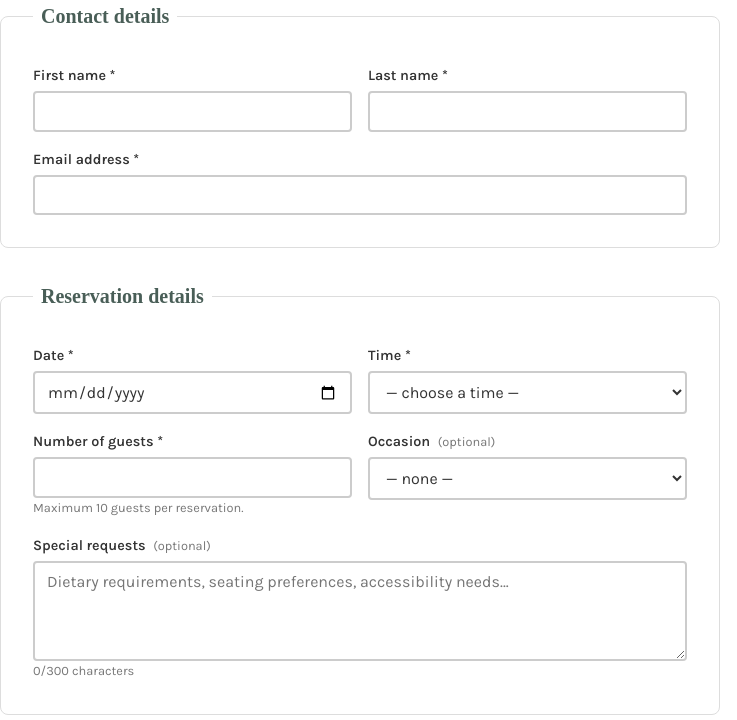
Test case: BookingForm validation › shows an error for an invalid email address
Type "not-an-email" into the field labelled "Email address *" at (360, 195), box [33, 175, 687, 215]
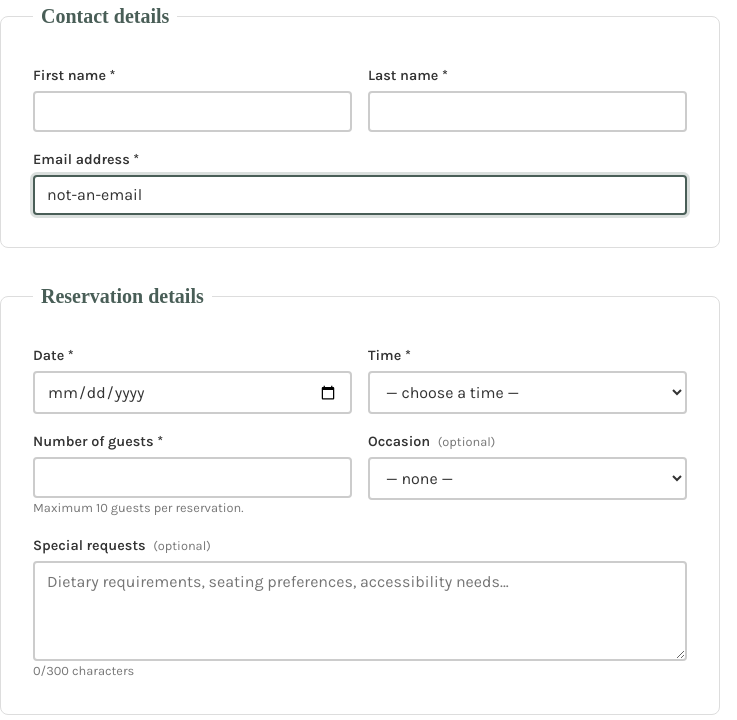
Leave the field labelled "Email address *", box [33, 175, 687, 215]
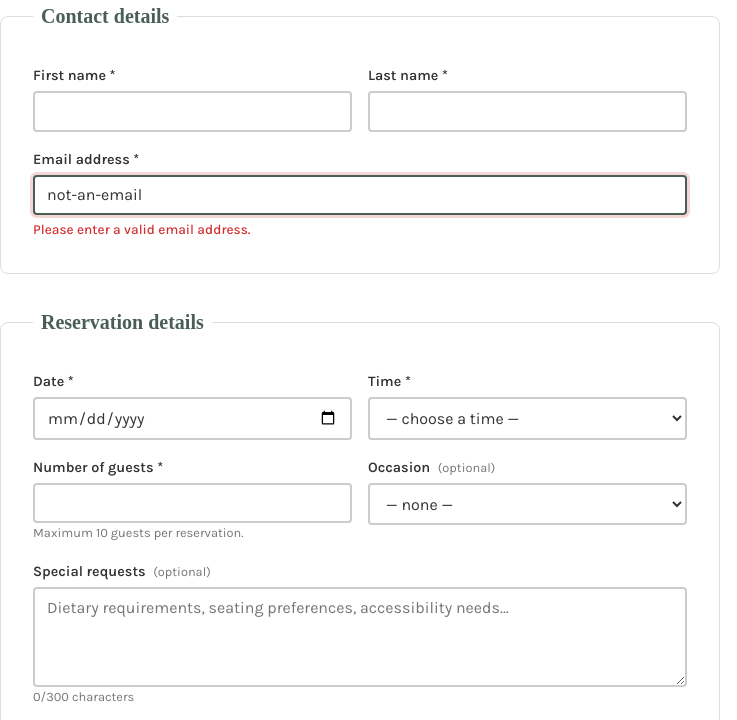
Check: the text "Please enter a valid email address." is shown, box [33, 222, 250, 237]
